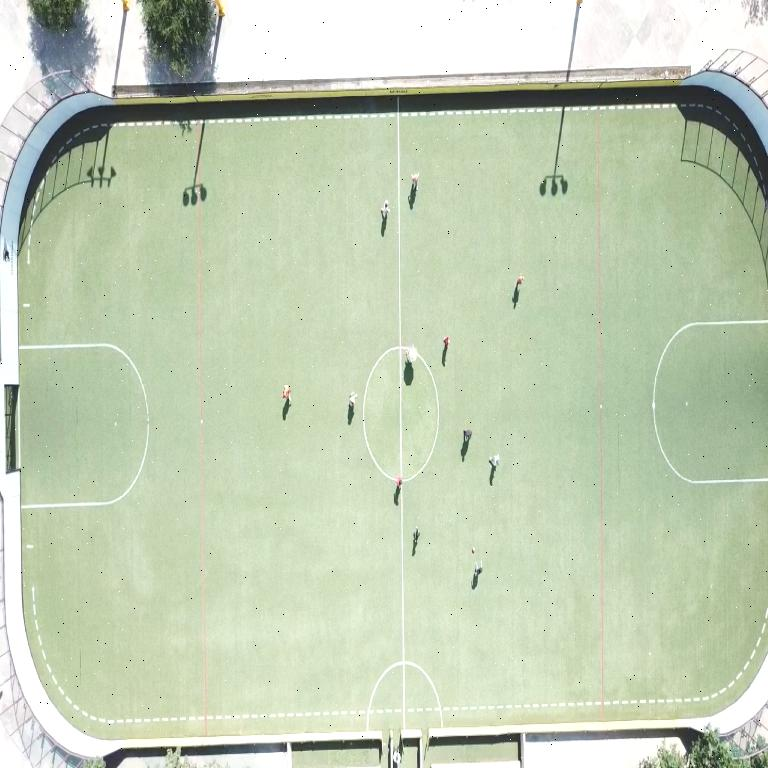AC: (19, 343, 148, 508), (652, 320, 767, 485)
B: (472, 547, 475, 553)
MC: (396, 96, 402, 477)
P: (406, 346, 417, 364), (282, 384, 290, 403), (411, 173, 418, 193), (381, 200, 388, 219), (348, 393, 356, 409), (489, 454, 497, 470), (412, 527, 419, 545), (475, 562, 482, 577), (463, 429, 471, 442), (515, 275, 523, 286), (443, 335, 449, 348), (397, 476, 402, 489)
